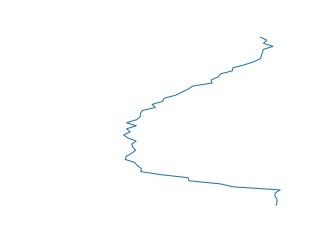underwaterDistributaryChannel: (121, 38, 289, 206)
